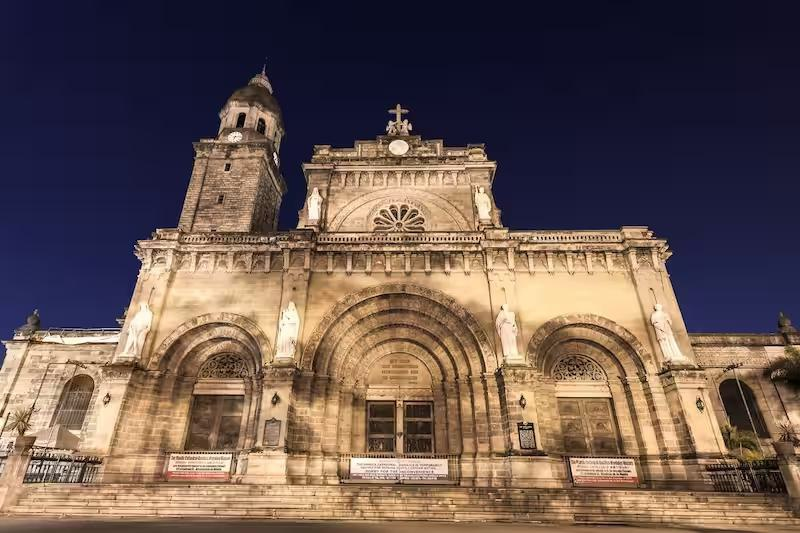manila_cathedral_church_intramuros_manila: (117, 47, 709, 485)
